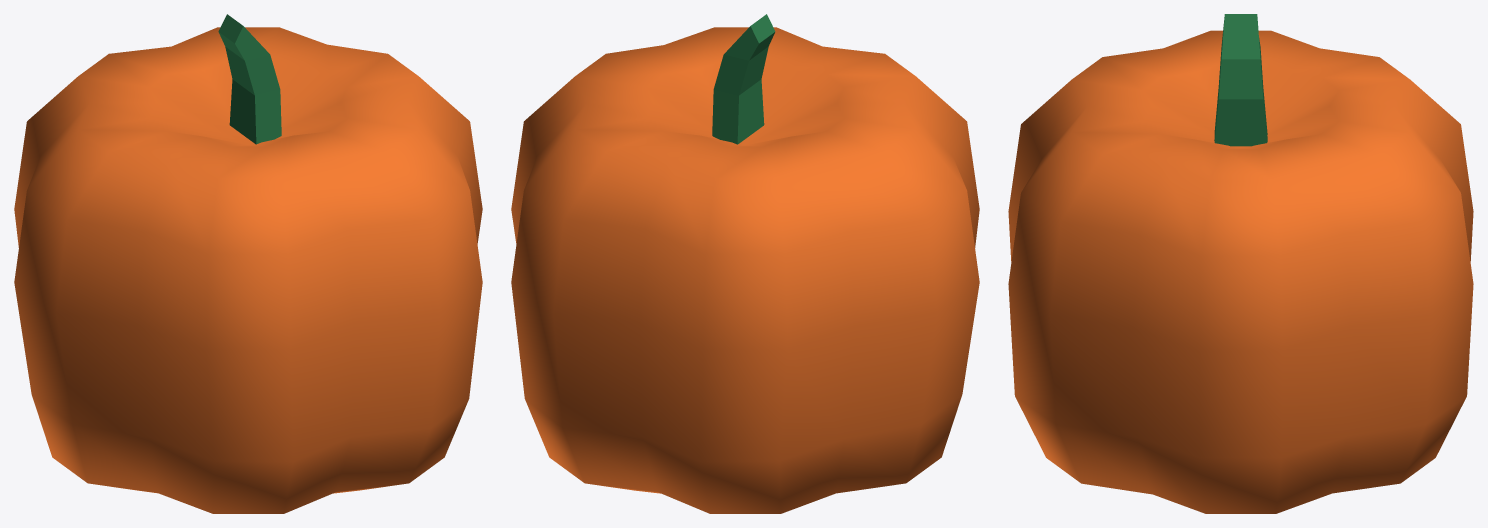
File: pumpkin_1.FBX
3 views of the same model, side by side, from view 1: azimuth 30°, elevation 25°; view 2: azimuth 150°, elevation 25°; view 3: azimuth 270°, elevation 25° (orthographic).
Visible parts, largest first — view 1: pumpkin_1; view 2: pumpkin_1; view 3: pumpkin_1.
Boxes of the visible parts, left/top/right/bottom form: pumpkin_1: left=14, top=14, right=482, bottom=513; pumpkin_1: left=511, top=14, right=979, bottom=513; pumpkin_1: left=1008, top=14, right=1473, bottom=513.
Bounding box in the file's own units: 0.3779 × 0.3687 × 0.3598.
Materials: 1 (1 with a texture image).
